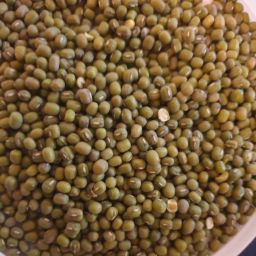Green gram dal(moong): (2, 2, 101, 256), (166, 4, 256, 256), (1, 1, 256, 87), (92, 3, 171, 256), (61, 60, 208, 191)
